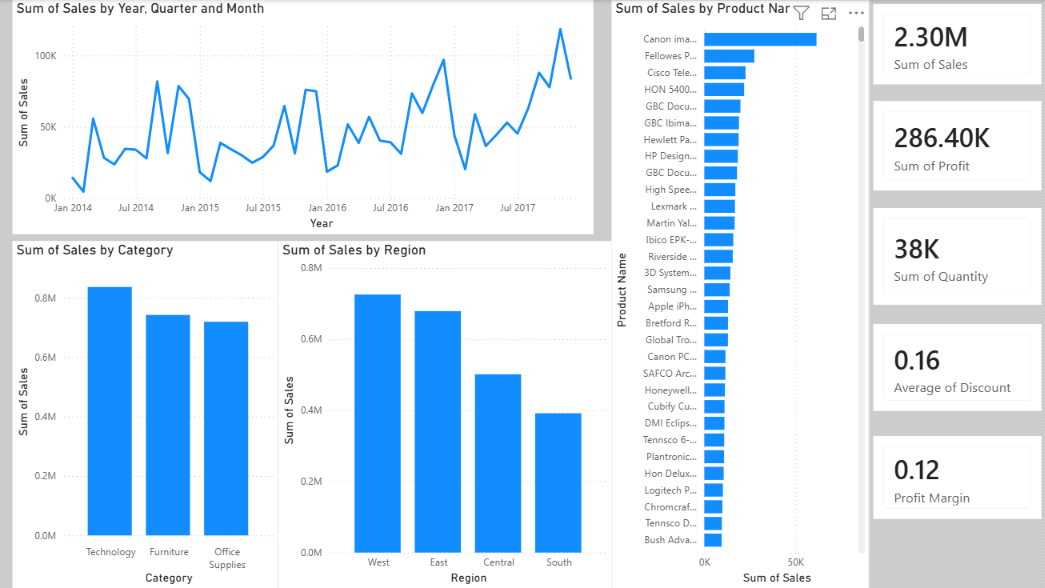

What the dashboard file says about the page in this screenshot:
{"tool":"powerbi","page":{"name":"Page 1","canvas":[1280,720],"ordinal":0},"visuals":[{"type":"lineChart","fields":{"Category":["Sample - Superstore.Order Date.Variation.Date Hierarchy.Year","Sample - Superstore.Order Date.Variation.Date Hierarchy.Quarter","Sample - Superstore.Order Date.Variation.Date Hierarchy.Month","Sample - Superstore.Order Date.Variation.Date Hierarchy.Day"],"Y":["Sum(Sample - Superstore.Sales)"]},"box":[17.5,0,710,286.2],"z":0},{"type":"clusteredColumnChart","fields":{"Category":["Sample - Superstore.Category"],"Y":["Sum(Sample - Superstore.Sales)"]},"box":[17.5,295,325,425],"z":1000},{"type":"clusteredBarChart","fields":{"Category":["Sample - Superstore.Product Name"],"Y":["Sum(Sample - Superstore.Sales)"]},"box":[750,0,315,720],"z":2000},{"type":"columnChart","fields":{"Category":["Sample - Superstore.Region"],"Y":["Sum(Sample - Superstore.Sales)"]},"box":[342.5,295,407.5,425],"z":3000},{"type":"cardVisual","fields":{"Data":["Sum(Sample - Superstore.Sales)"]},"box":[1065,0,215,108.8],"z":4000},{"type":"cardVisual","fields":{"Data":["Sum(Sample - Superstore.Profit)"]},"box":[1065.1,118.6,215.2,119.8],"z":5000},{"type":"cardVisual","fields":{"Data":["Sum(Sample - Superstore.Quantity)"]},"box":[1065.1,249.5,215.2,128.4],"z":6000},{"type":"cardVisual","fields":{"Data":["Sample - Superstore.Profit Margin"]},"box":[1065.1,528.3,215.2,111.3],"z":7000},{"type":"cardVisual","fields":{"Data":["Avg(Sample - Superstore.Discount)"]},"box":[1065.1,391.3,215.2,116.2],"z":8000}]}

Visuals, with their boxes in screenshot pixels (x1, y1, x2, y2), scaled from the page's 1280x720 canvas onto the 1045x588 screenshot:
lineChart - Sample - Superstore.Order Date.Variation.Date Hierarchy.Year x Sample - Superstore.Order Date.Variation.Date Hierarchy.Quarter: box=[14, 0, 594, 234]
clusteredColumnChart - Sample - Superstore.Category x Sum(Sample - Superstore.Sales): box=[14, 241, 280, 587]
clusteredBarChart - Sample - Superstore.Product Name x Sum(Sample - Superstore.Sales): box=[612, 0, 869, 587]
columnChart - Sample - Superstore.Region x Sum(Sample - Superstore.Sales): box=[280, 241, 612, 587]
cardVisual - Sum(Sample - Superstore.Sales): box=[869, 0, 1044, 89]
cardVisual - Sum(Sample - Superstore.Profit): box=[870, 97, 1044, 195]
cardVisual - Sum(Sample - Superstore.Quantity): box=[870, 204, 1044, 309]
cardVisual - Sample - Superstore.Profit Margin: box=[870, 431, 1044, 522]
cardVisual - Avg(Sample - Superstore.Discount): box=[870, 320, 1044, 414]
